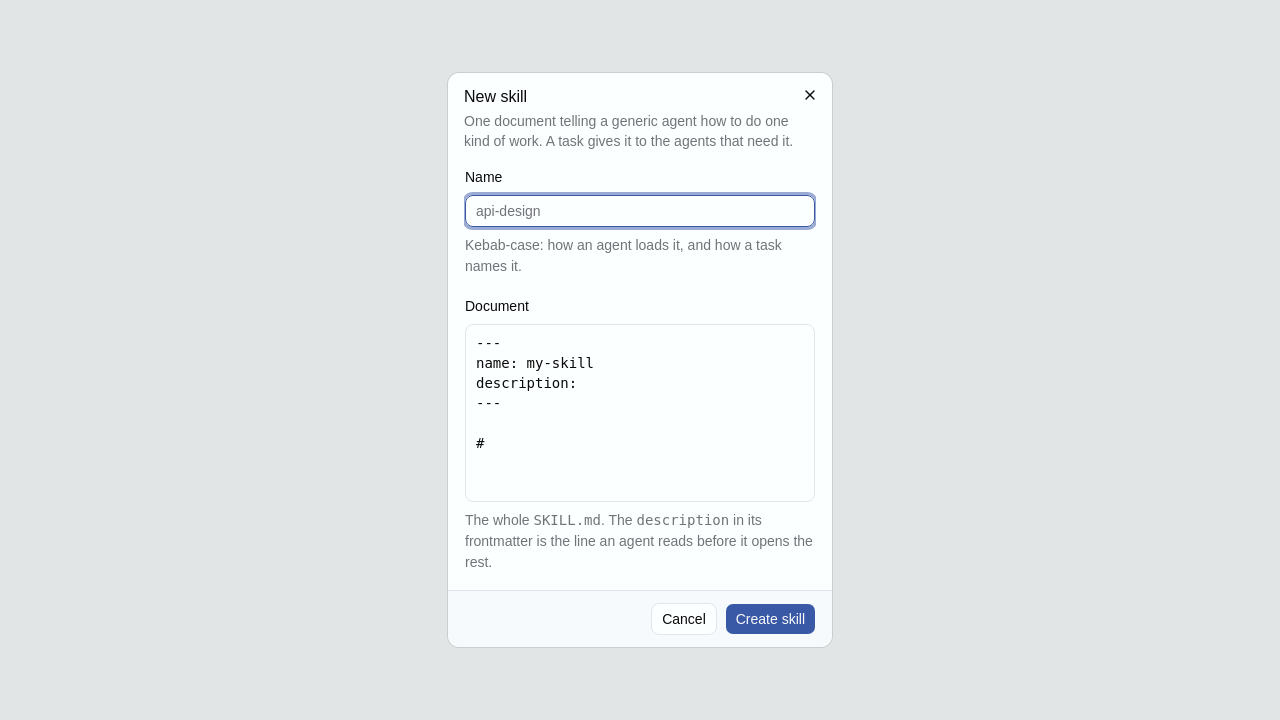
Scenario: creating › refuses a skill with no name, before the daemon is asked
Click the button "Create skill": coordinates (770, 619) top-left (725, 603), bottom-right (816, 635)
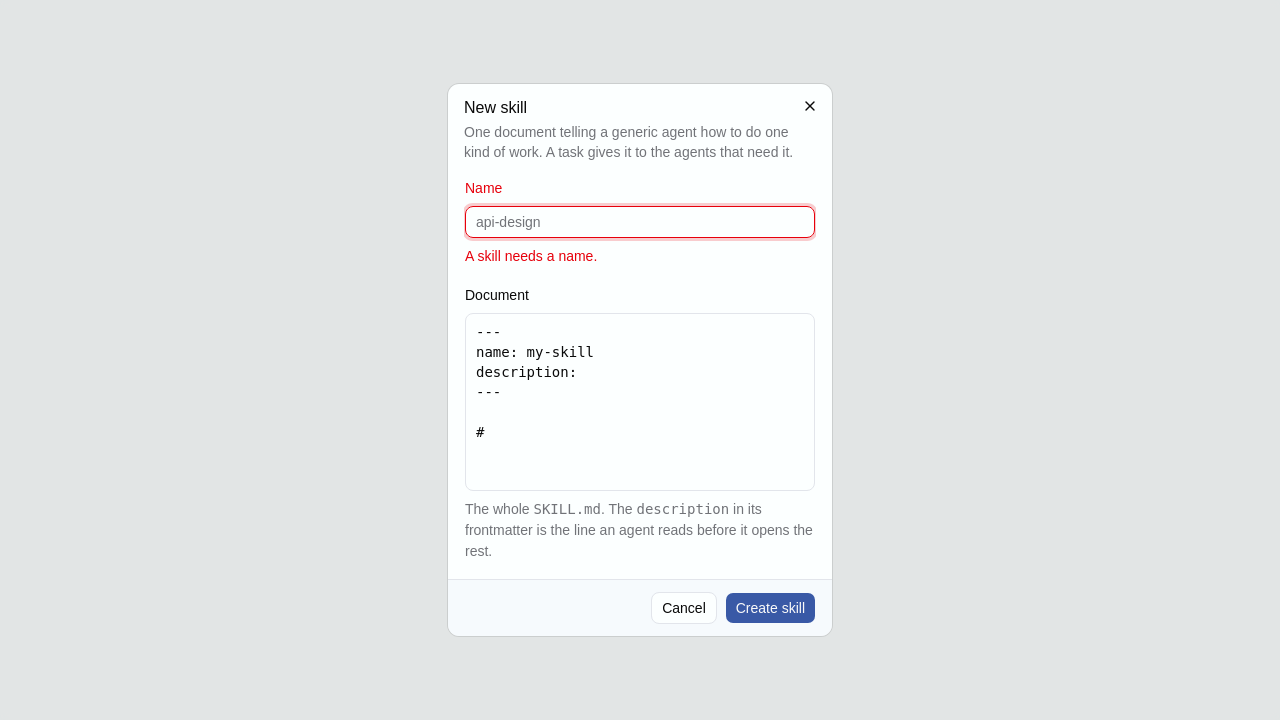
Check: the text "A skill needs a name." is shown, box top-left (465, 248), bottom-right (597, 264)
